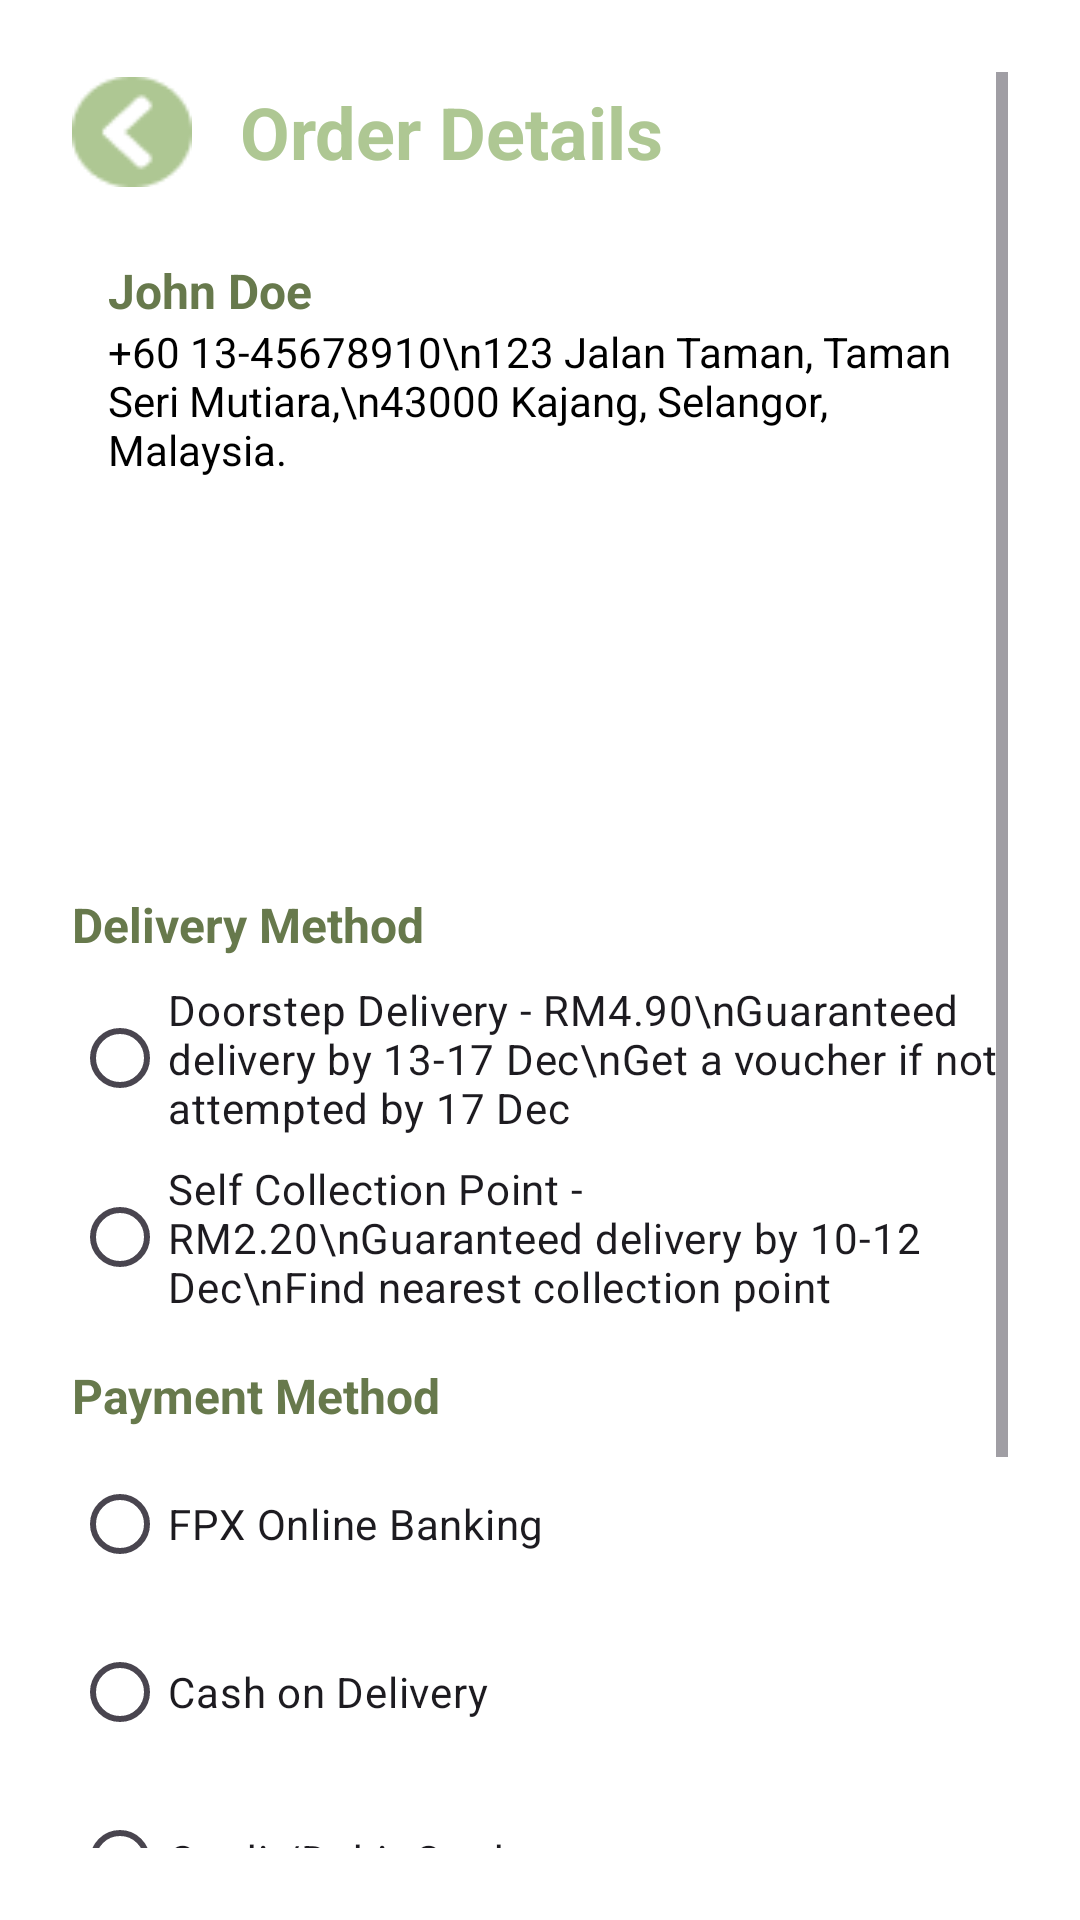

Icon click points for this 1080px x 1920px phone screenshot, format (x,y):
Back: (132,132)
